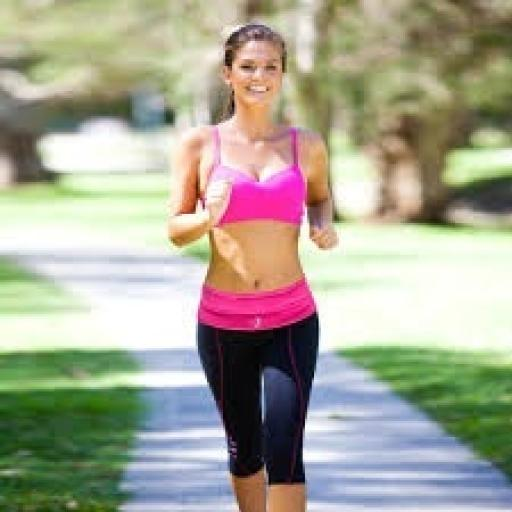running: (164, 20, 344, 510)
